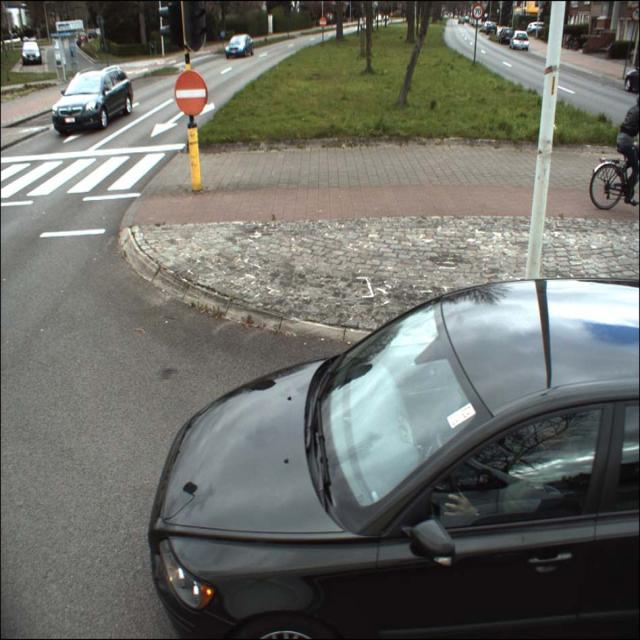girisyok: (175, 71, 208, 117)
